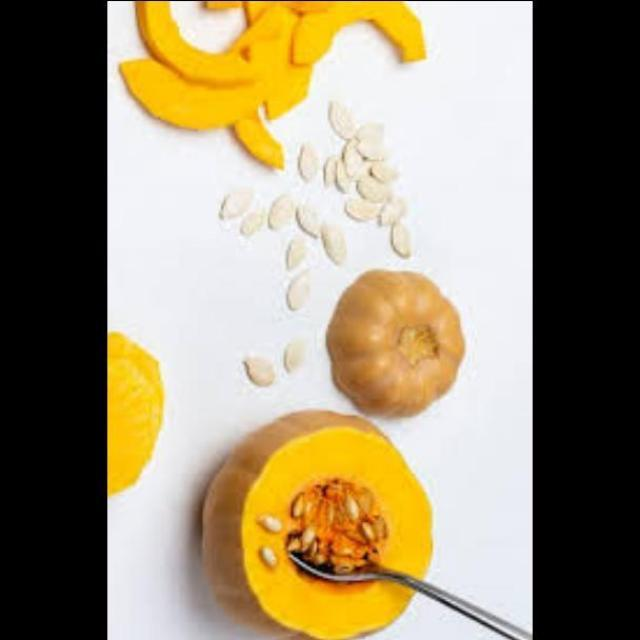Pumpkin: (201, 392, 443, 636), (116, 1, 437, 170), (329, 260, 476, 424), (109, 328, 186, 494)
